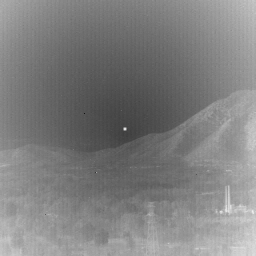Target: (122, 125, 129, 133)
